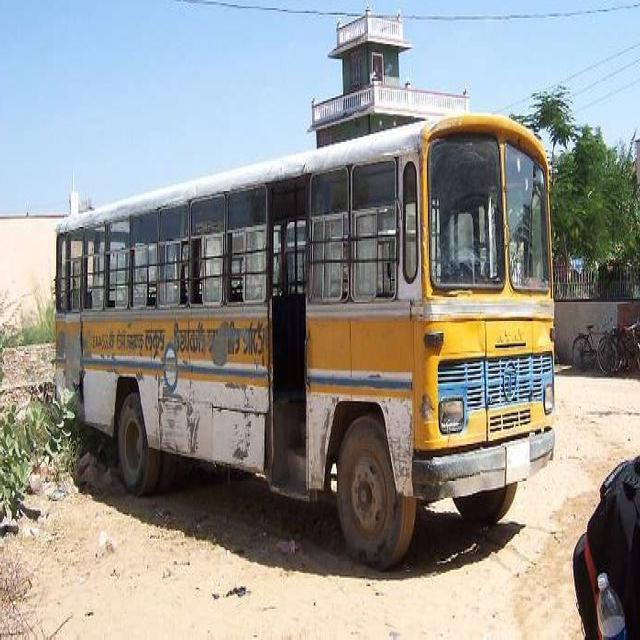accident: (56, 116, 554, 567)
